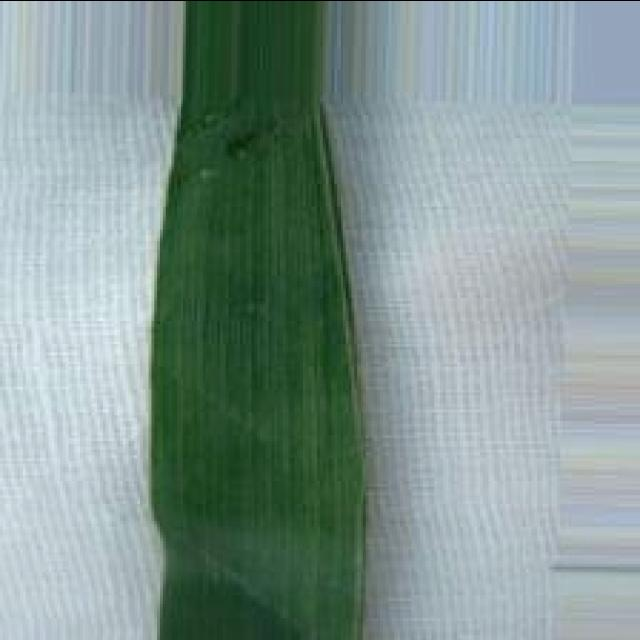Healthy: (149, 0, 366, 640)
